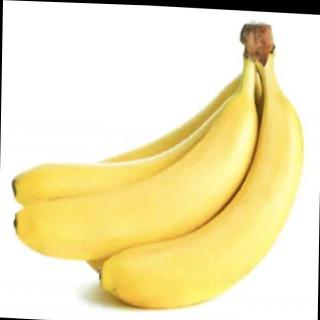banana: (97, 84, 307, 318), (10, 80, 260, 270)
